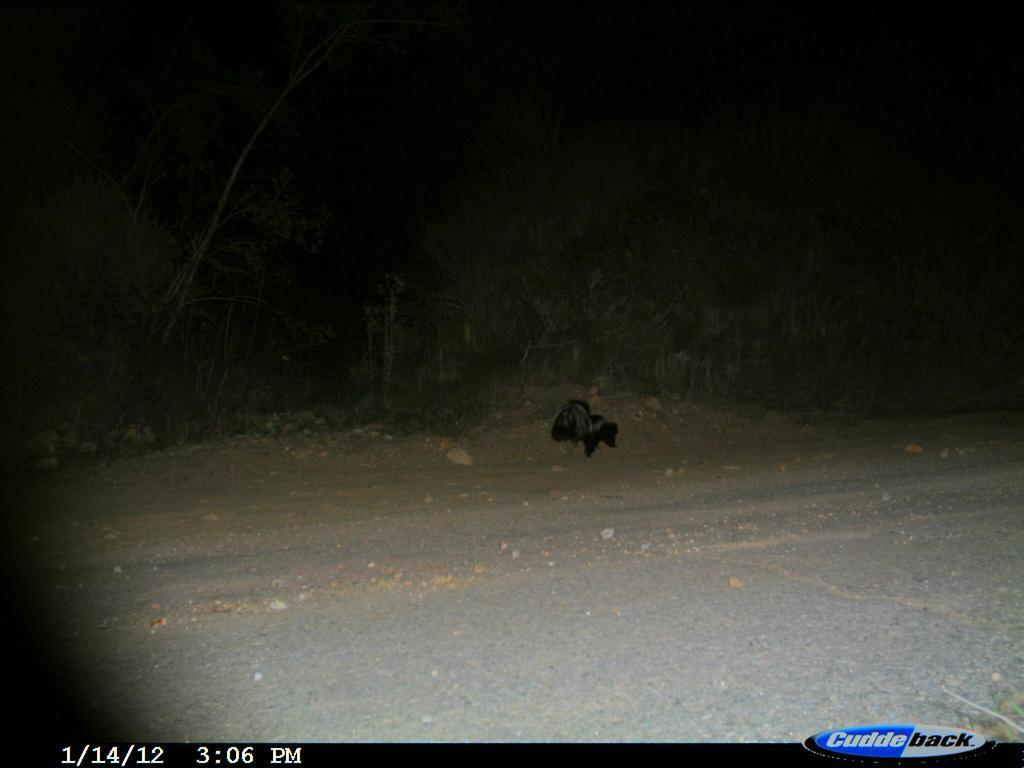skunk: (538, 391, 644, 472)
